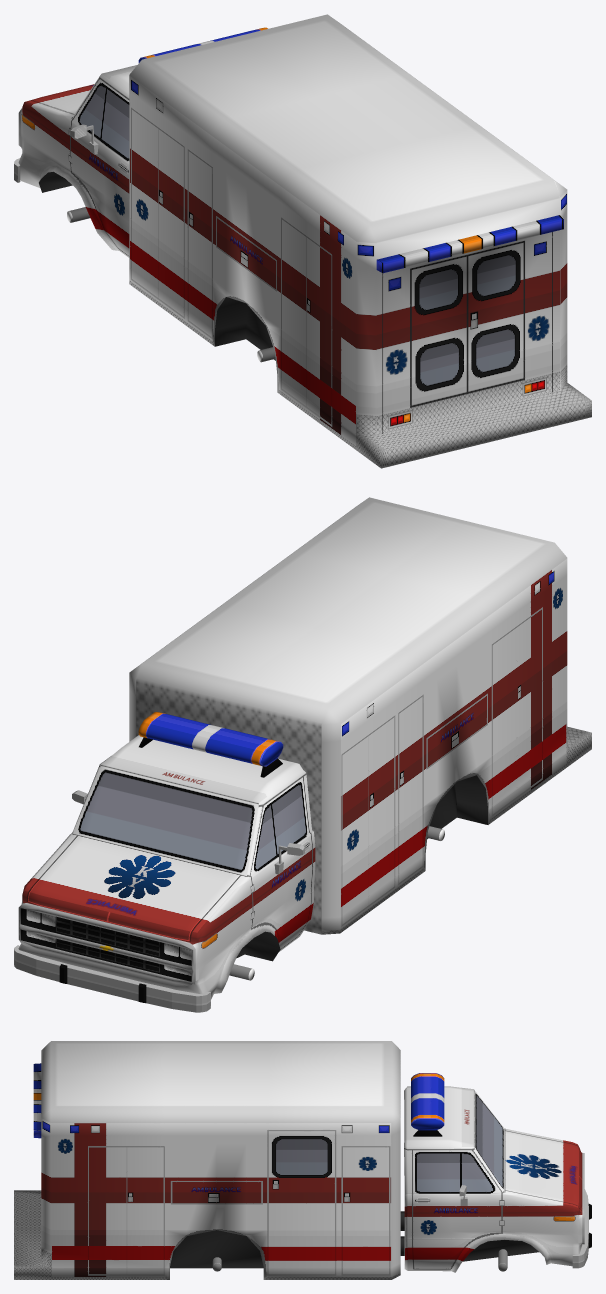
The model's file is 93c10boxambulance.fbx.
3 views of the same model, one above another, from view 1: azimuth 30°, elevation 25°; view 2: azimuth 150°, elevation 25°; view 3: azimuth 270°, elevation 25° (orthographic). The views are drawn at different scales.
Visible parts, largest first — view 1: 93g10ambulancebox; view 2: 93g10ambulancebox; view 3: 93g10ambulancebox.
Boxes of the visible parts, box(x1,y1,x2,y2) form: 93g10ambulancebox: box(14, 14, 591, 468); 93g10ambulancebox: box(14, 497, 591, 1012); 93g10ambulancebox: box(14, 1041, 591, 1279).
Size of the model in its own units: 2.49 by 2.31 by 7.2.
